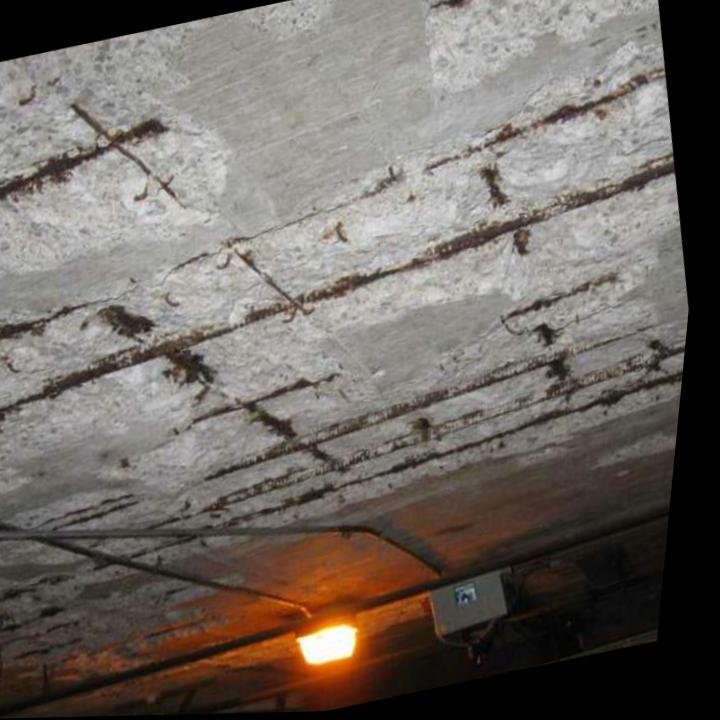damage: (0, 0, 694, 693)
